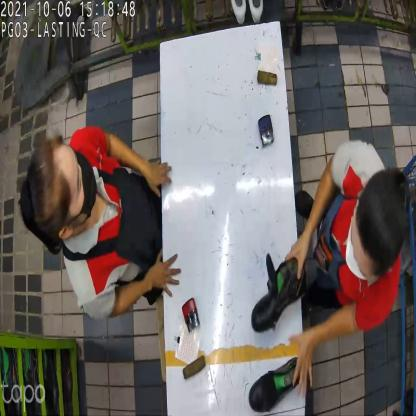shoes: (248, 250, 309, 412)
stamp: (255, 115, 276, 151), (182, 297, 200, 334)
